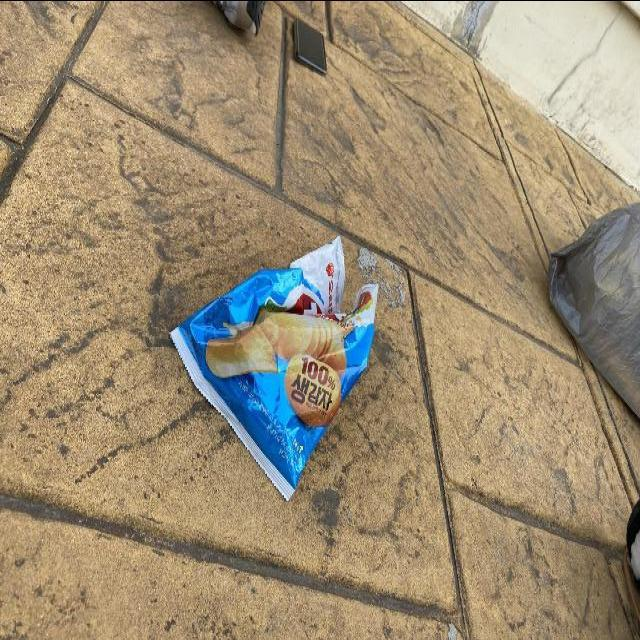plastic bag: (166, 227, 382, 503)
